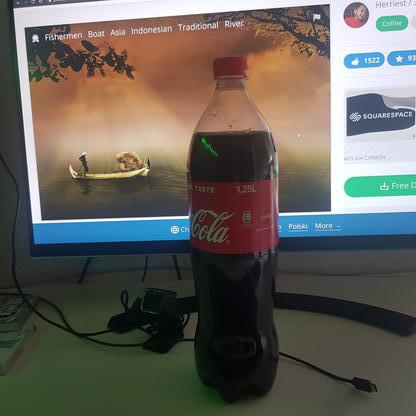coca-cola: (184, 53, 282, 407)
